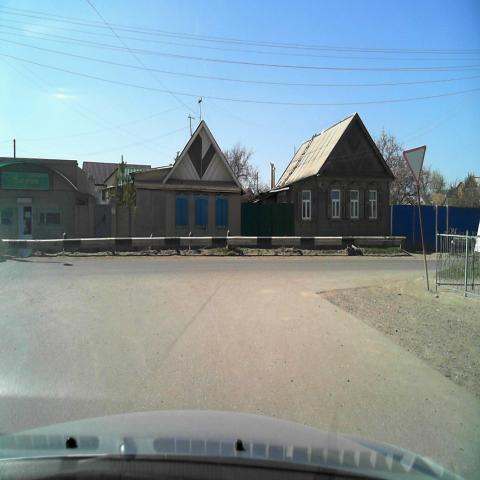2_4: (402, 143, 427, 185)
